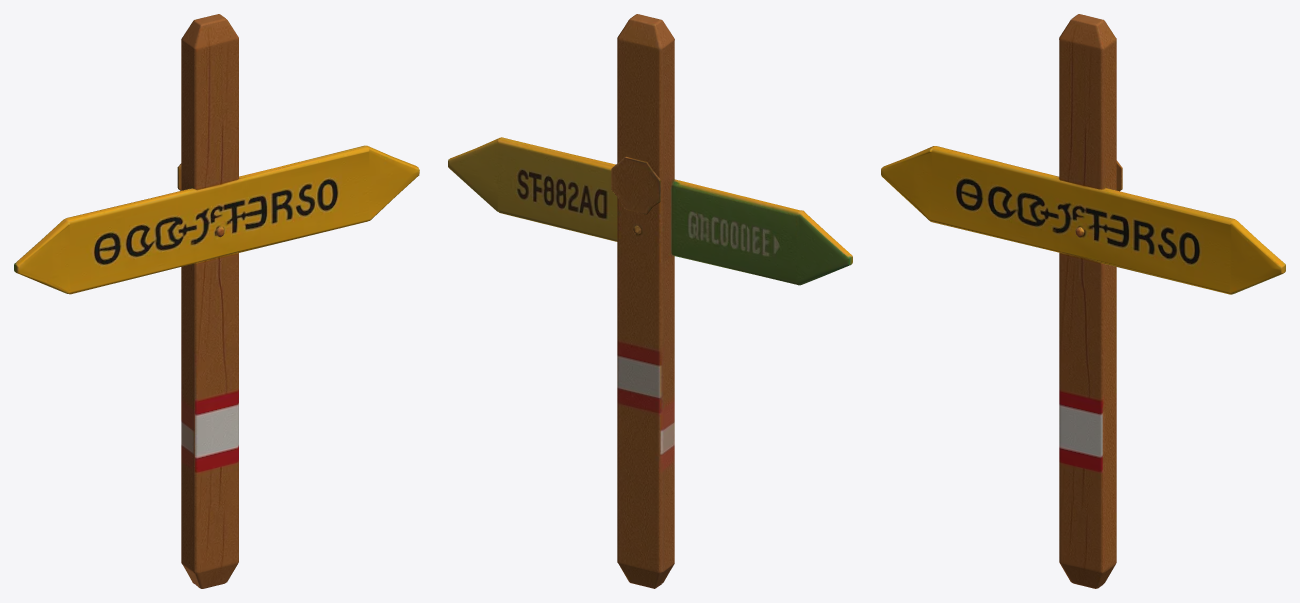
Rendered from trailhead.glb.
3 renders of one model, left to right at view 1: azimuth 30°, elevation 25°; view 2: azimuth 150°, elevation 25°; view 3: azimuth 330°, elevation 25°, orthographic.
Size of the model in its own units: 0.709 by 0.9517 by 0.0625.
1 material, 1 textured.
